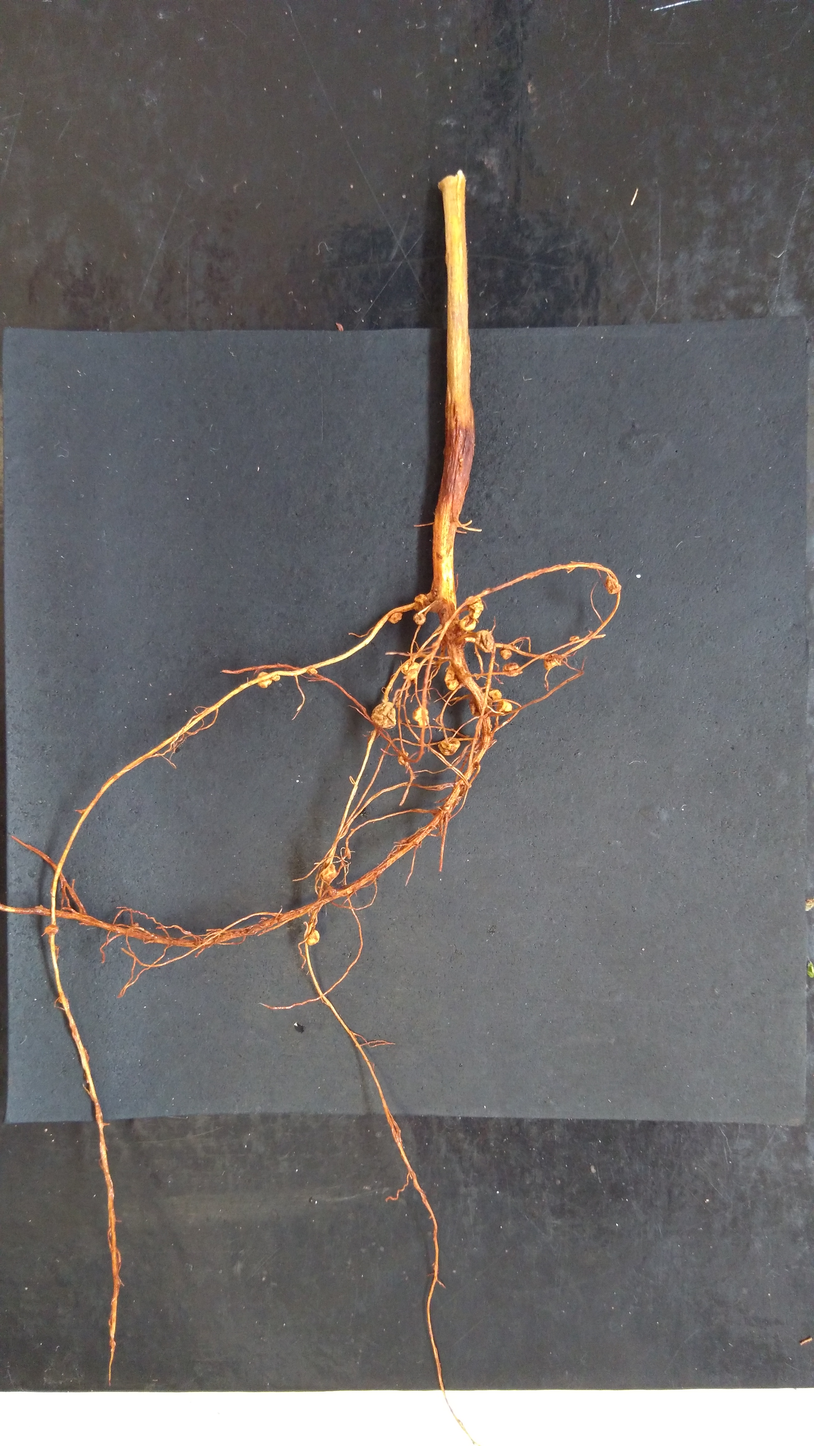nodule: (370, 701, 399, 730), (474, 629, 495, 654), (437, 736, 462, 757), (442, 665, 461, 692), (255, 669, 281, 688), (603, 574, 624, 595), (412, 705, 430, 729), (466, 595, 484, 618), (458, 613, 478, 632), (320, 863, 339, 882), (413, 593, 431, 613), (400, 661, 421, 678), (543, 652, 561, 670), (305, 928, 321, 947), (503, 662, 523, 677), (42, 922, 61, 937), (496, 700, 514, 713), (468, 700, 481, 718), (499, 648, 514, 661), (488, 688, 503, 701), (388, 612, 403, 624), (413, 612, 426, 625), (304, 667, 320, 677), (568, 635, 581, 642)
